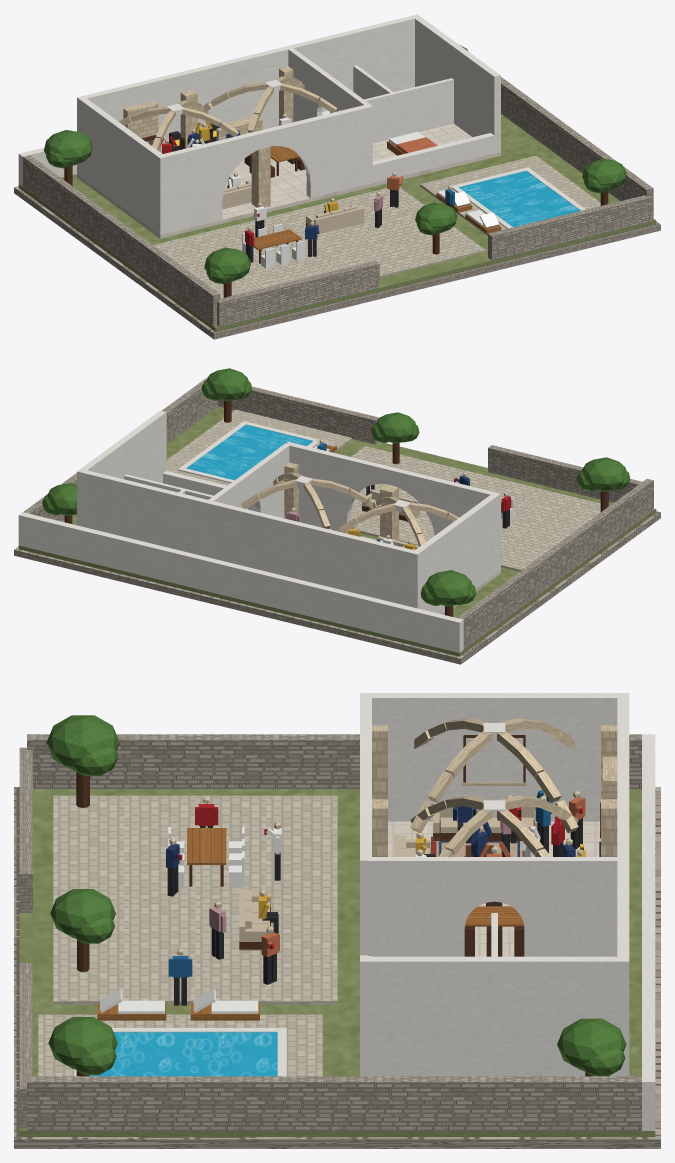
Rendered from villa3_ceglie.glb.
3 views of the same model, one above another, from view 1: azimuth 30°, elevation 25°; view 2: azimuth 150°, elevation 25°; view 3: azimuth 270°, elevation 25° (orthographic). The views are drawn at different scales.
Visible parts, largest first — view 1: Wall_N, Corte_Paving, Front_Arch_Salone, Base_Terrain, Court_WallW, Wall_W, Wall_E, Base_Trim, Court_WallS2, Court_WallS1, Court_WallE, Bed_Div_H (+19 smaller); view 2: Wall_N, Court_WallN, Corte_Paving, Front_Arch_Salone, Court_WallW, Base_Terrain, Base_Trim, Wall_W, Court_WallS2, Wall_E, Court_WallS1, Ceglie_Pool_water (+12 smaller); view 3: Corte_Paving, Court_WallE, Wall_E, Base_Terrain, Bed_Hall_Arch, Wall_W, Court_WallW, Base_Trim, Ceglie_Pool_water, Court_WallN, Ceglie_Pool_deck, Wall_N (+25 smaller).
Boxes of the visible parts, x1=… form: Wall_N: x1=77, y1=14, x2=420, y2=172; Corte_Paving: x1=153, y1=187, x2=484, y2=298; Front_Arch_Salone: x1=156, y1=105, x2=372, y2=234; Base_Terrain: x1=18, y1=114, x2=656, y2=331; Court_WallW: x1=23, y1=155, x2=220, y2=326; Wall_W: x1=77, y1=98, x2=166, y2=234; Wall_E: x1=415, y1=17, x2=500, y2=153; Base_Trim: x1=14, y1=186, x2=660, y2=339; Court_WallS2: x1=488, y1=195, x2=652, y2=260; Court_WallS1: x1=217, y1=261, x2=379, y2=326; Court_WallE: x1=501, y1=77, x2=653, y2=218; Bed_Div_H: x1=330, y1=78, x2=453, y2=143; Wall_N: x1=77, y1=469, x2=421, y2=608; Court_WallN: x1=18, y1=512, x2=463, y2=652; Corte_Paving: x1=350, y1=446, x2=609, y2=569; Front_Arch_Salone: x1=286, y1=442, x2=500, y2=571; Court_WallW: x1=457, y1=479, x2=653, y2=649; Base_Terrain: x1=18, y1=406, x2=656, y2=656; Base_Trim: x1=14, y1=511, x2=660, y2=664; Wall_W: x1=412, y1=492, x2=500, y2=613; Court_WallS2: x1=218, y1=386, x2=379, y2=444; Wall_E: x1=81, y1=410, x2=166, y2=483; Court_WallS1: x1=488, y1=445, x2=642, y2=502; Ceglie_Pool_water: x1=186, y1=425, x2=312, y2=480; Corte_Paving: x1=53, y1=795, x2=337, y2=1000; Court_WallE: x1=27, y1=1076, x2=641, y2=1130; Wall_E: x1=360, y1=956, x2=617, y2=1076; Base_Terrain: x1=19, y1=789, x2=655, y2=1136; Bed_Hall_Arch: x1=367, y1=857, x2=617, y2=956; Wall_W: x1=360, y1=693, x2=617, y2=821; Court_WallW: x1=27, y1=734, x2=641, y2=788; Base_Trim: x1=14, y1=787, x2=660, y2=1148; Ceglie_Pool_water: x1=89, y1=1032, x2=277, y2=1076; Court_WallN: x1=642, y1=734, x2=655, y2=1131; Ceglie_Pool_deck: x1=38, y1=1014, x2=322, y2=1076; Wall_N: x1=617, y1=693, x2=629, y2=1076.
Size of the model in its own units: 22.3 by 4.6 by 17.3.
Materials: 20 (20 with a texture image).
